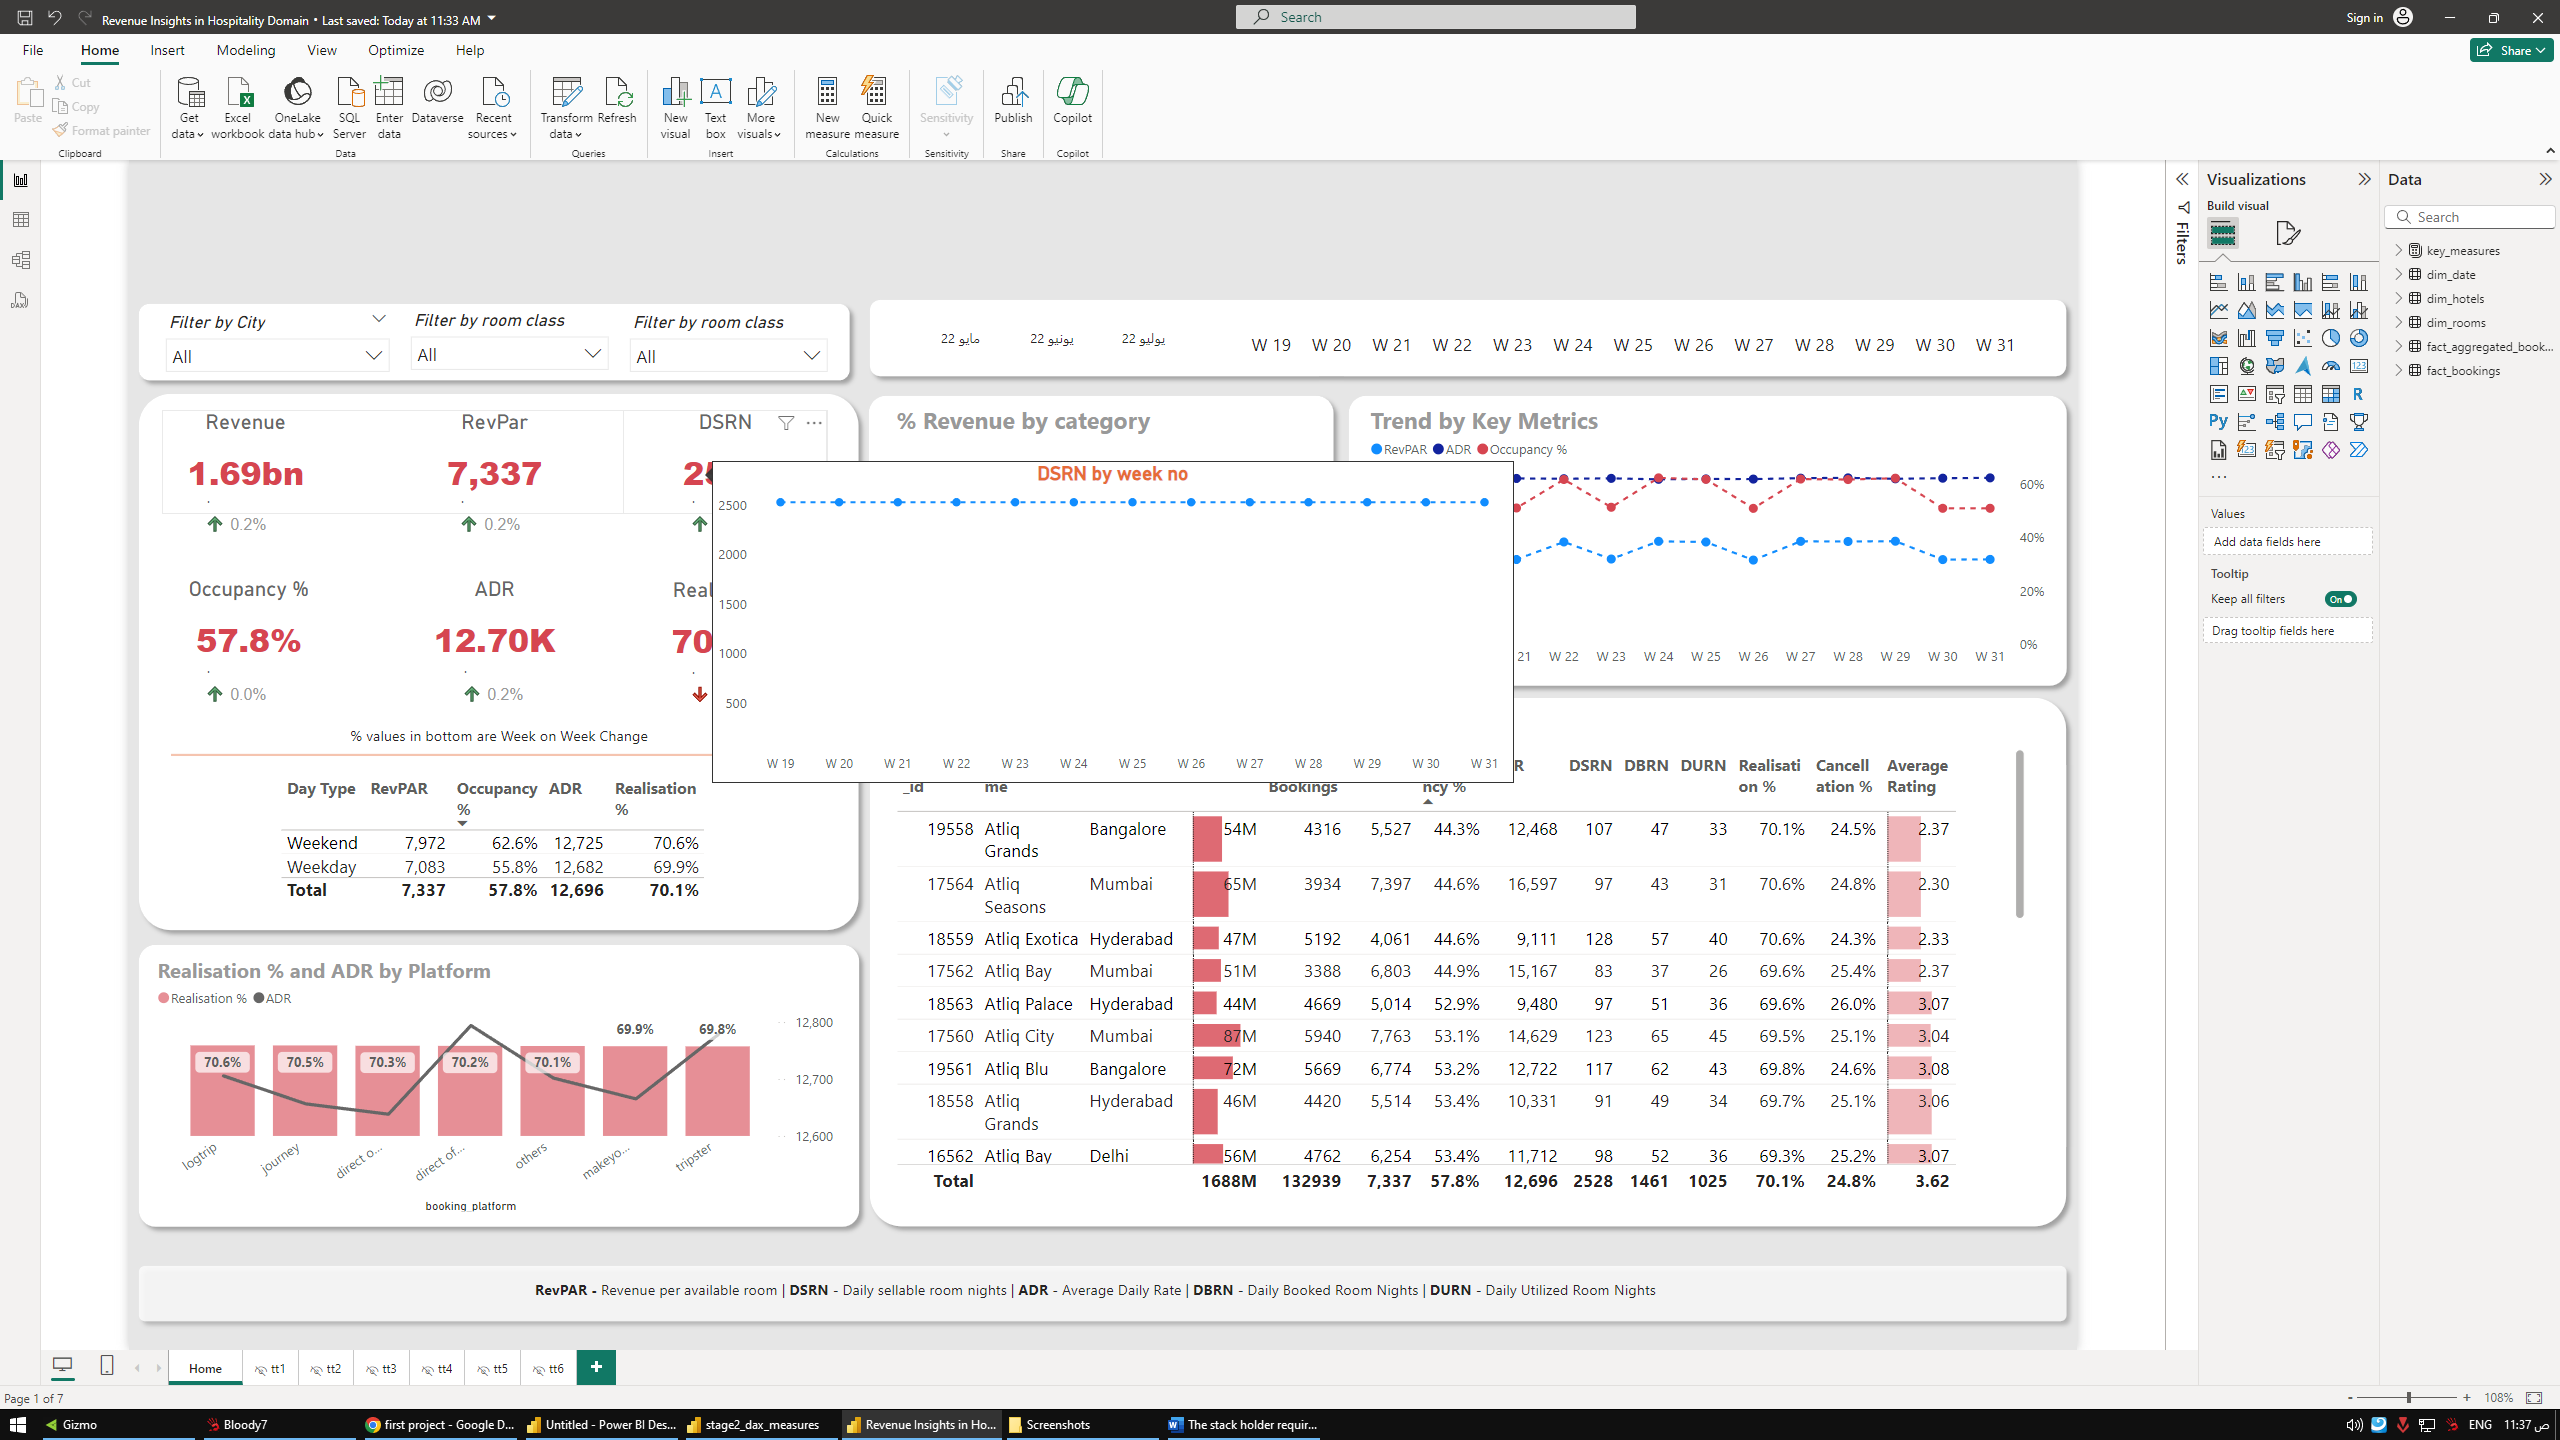

Layout of this report page (visuals, bound fields, positions):
{"tool":"powerbi","page":{"name":"Page 1","canvas":[1280,720],"ordinal":0},"visuals":[{"type":"tableEx","fields":{"Values":["dim_hotels.property_id","dim_hotels.property_name","key_measures.Revenue","key_measures.Total Bookings","key_measures.RevPAR","key_measures.Occupancy %","key_measures.ADR","key_measures.DSRN","key_measures.DBRN","key_measures.DURN","key_measures.Realisation %","key_measures.Cancellation %"]},"box":[277.8,248.5,987.6,446.6],"z":0},{"type":"advancedSlicerVisual","title":"filter by city ","fields":{"Values":["dim_hotels.city"]},"box":[0,113.9,478.8,62.1],"z":1000},{"type":"advancedSlicerVisual","title":"filter by room type","fields":{"Values":["dim_rooms.room_class"]},"box":[0,51.2,555.5,69.4],"z":2000},{"type":"advancedSlicerVisual","fields":{"Values":["dim_date.mmm yy"]},"box":[552.5,64.6,238.8,56],"z":3000},{"type":"advancedSlicerVisual","fields":{"Values":["dim_date.week no"]},"box":[0,0,1104.8,51],"z":4000},{"type":"card","title":"Revenue","fields":{"Values":["key_measures.Revenue"]},"box":[0,176.5,127.4,87.9],"z":5000},{"type":"tableEx","fields":{"Values":["key_measures.Revenue WoW change %"]},"box":[15.9,248.5,107,59.9],"z":6000},{"type":"donutChart","fields":{"Category":["dim_hotels.category"],"Y":["key_measures.Occupancy %"]},"box":[997.1,52.9,257.4,182.2],"z":6001}]}

Visuals, with their boxes on the page's 1280x720 design canvas (x1, y1, x2, y2). These are canvas units, not pixel positions in the 2560x1440 screenshot, which may show the page scaled, cropped or inside an application window:
tableEx - dim_hotels.property_id x dim_hotels.property_name: [278, 248, 1265, 695]
"filter by city " advancedSlicerVisual: [0, 114, 479, 176]
"filter by room type" advancedSlicerVisual: [0, 51, 556, 121]
advancedSlicerVisual - dim_date.mmm yy: [552, 65, 791, 121]
advancedSlicerVisual - dim_date.week no: [0, 0, 1105, 51]
"Revenue" card: [0, 176, 127, 264]
tableEx - key_measures.Revenue WoW change %: [16, 248, 123, 308]
donutChart - dim_hotels.category x key_measures.Occupancy %: [997, 53, 1254, 235]
